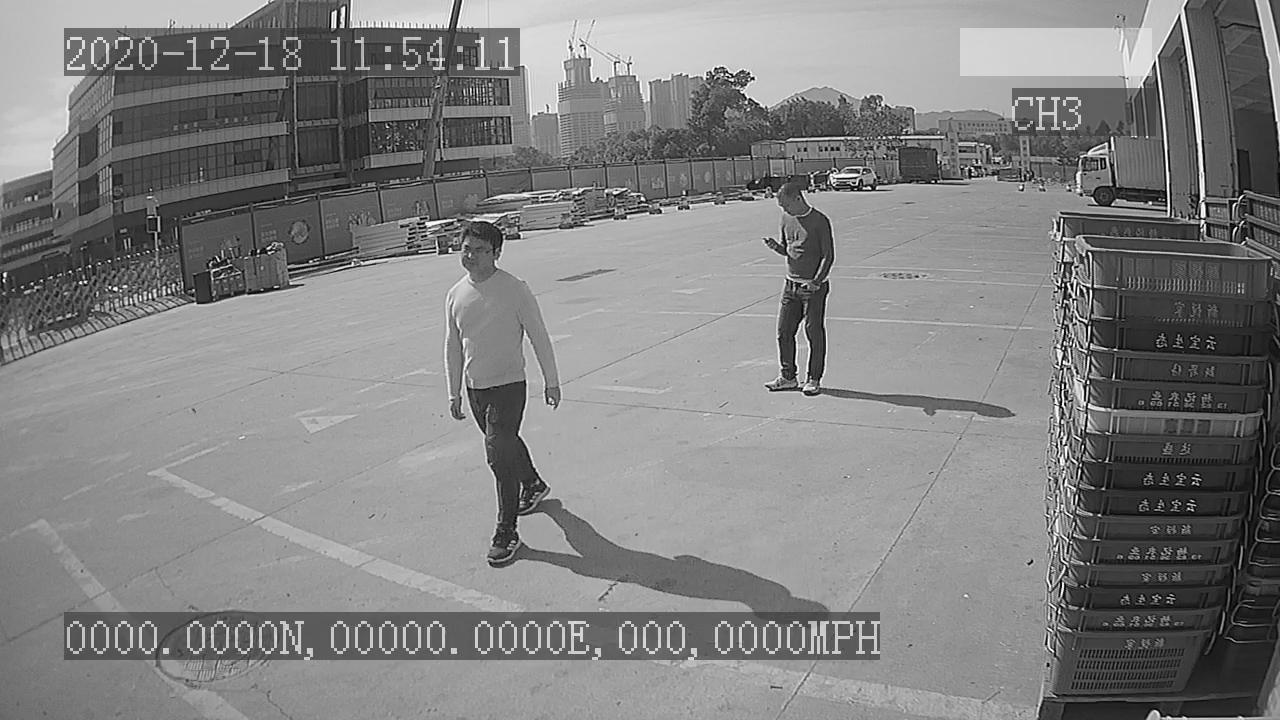person: (431, 211, 568, 579), (747, 177, 840, 399)
